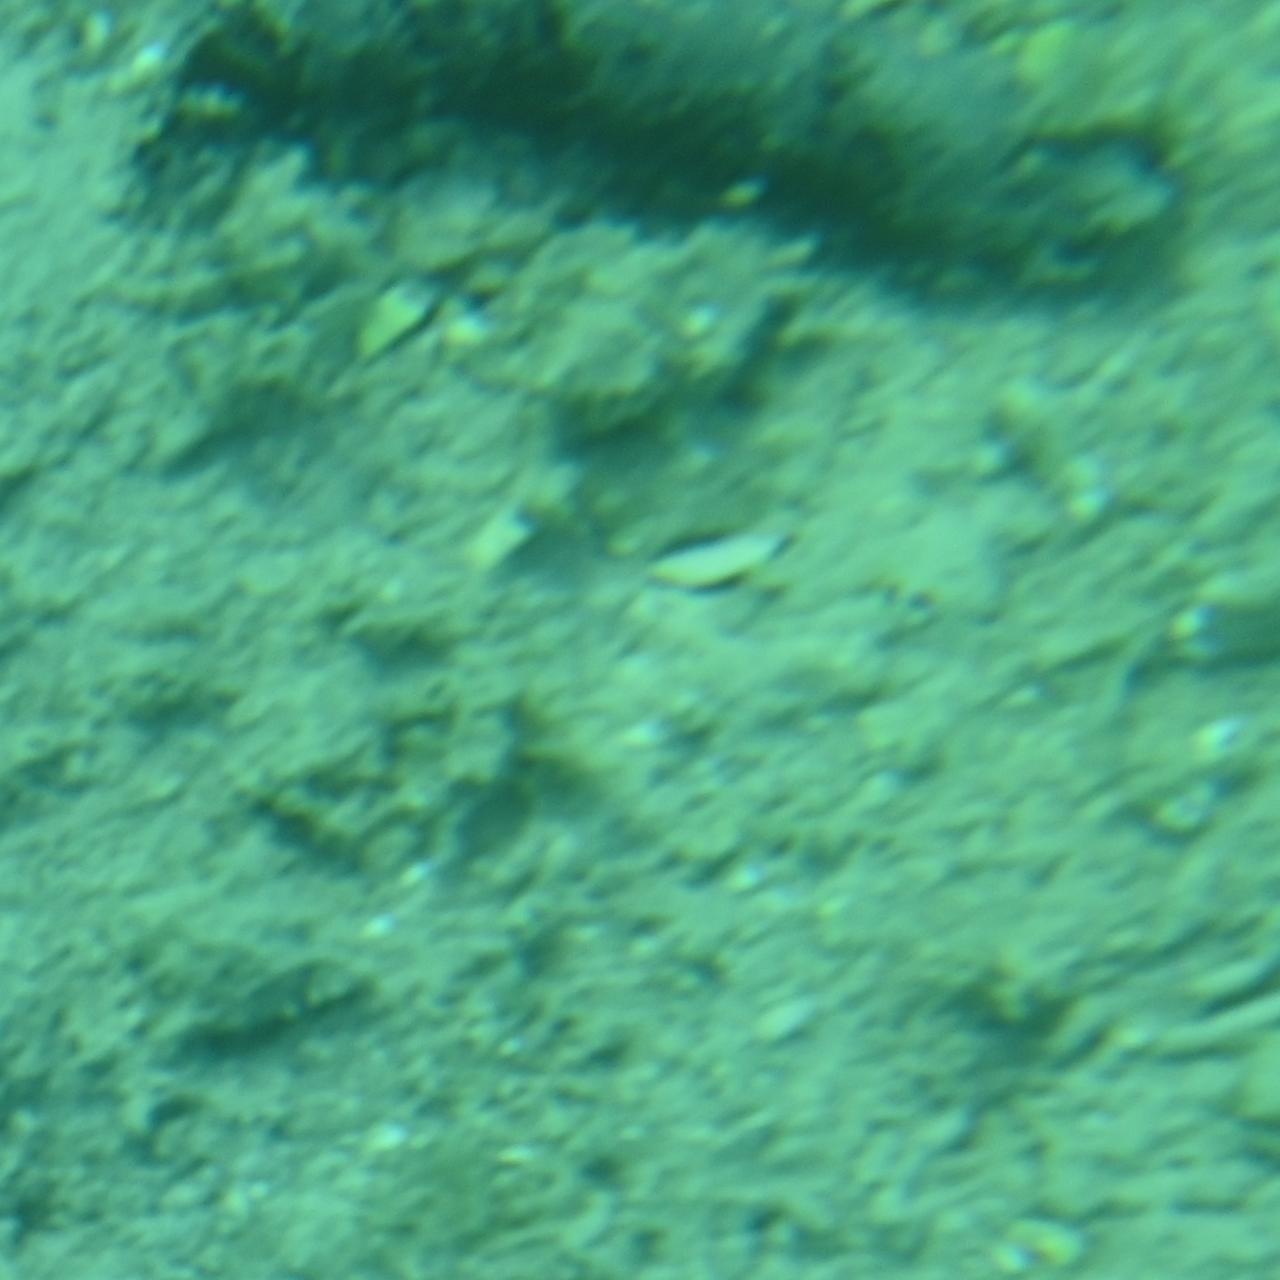Holothuria tubulosa: (56, 2, 1224, 306)
